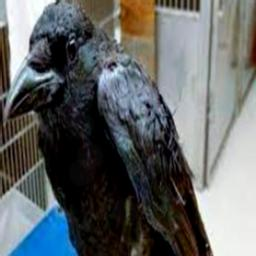Crow: (3, 0, 241, 256)
